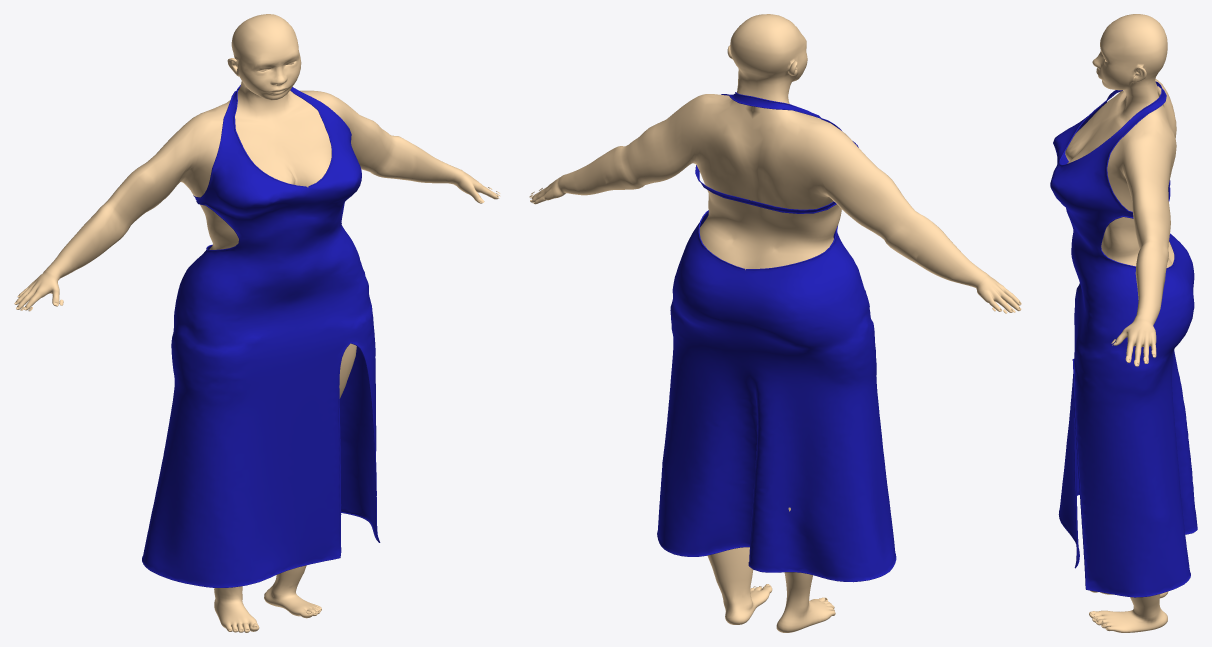
File: dress9.glb
3 views of the same model, side by side, from view 1: azimuth 30°, elevation 25°; view 2: azimuth 150°, elevation 25°; view 3: azimuth 270°, elevation 25° (orthographic).
Visible parts, largest first — view 1: EveningDress, Body; view 2: EveningDress, Body; view 3: EveningDress, Body.
Boxes of the visible parts, x1,y1,x2,y2 form: EveningDress: (142,85,380,587); Body: (14,14,499,632); EveningDress: (657,92,896,582); Body: (530,14,1021,632); EveningDress: (1050,81,1197,597); Body: (1065,14,1176,632).
Size of the model in its own units: 1.59 by 1.88 by 0.4195.
